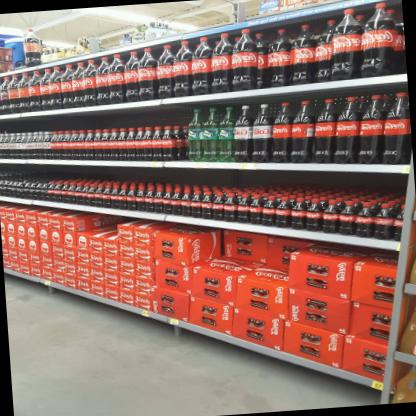empty_space: (171, 5, 233, 34), (98, 34, 120, 50), (245, 0, 259, 18)
